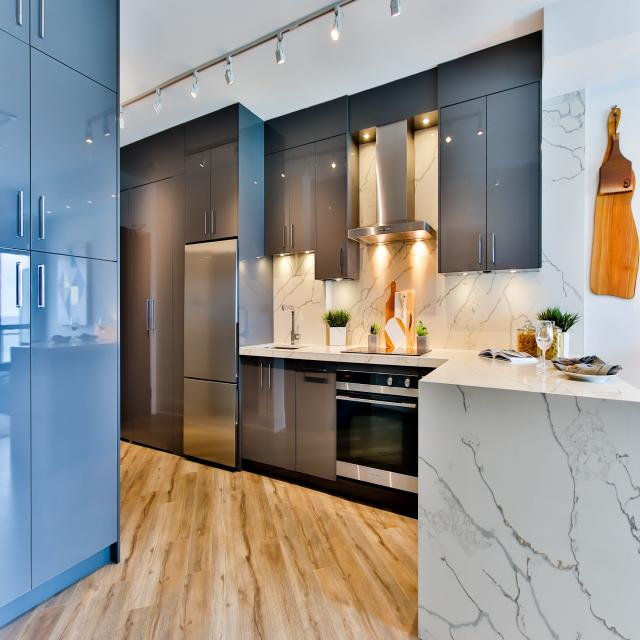floor: (0, 438, 423, 639)
